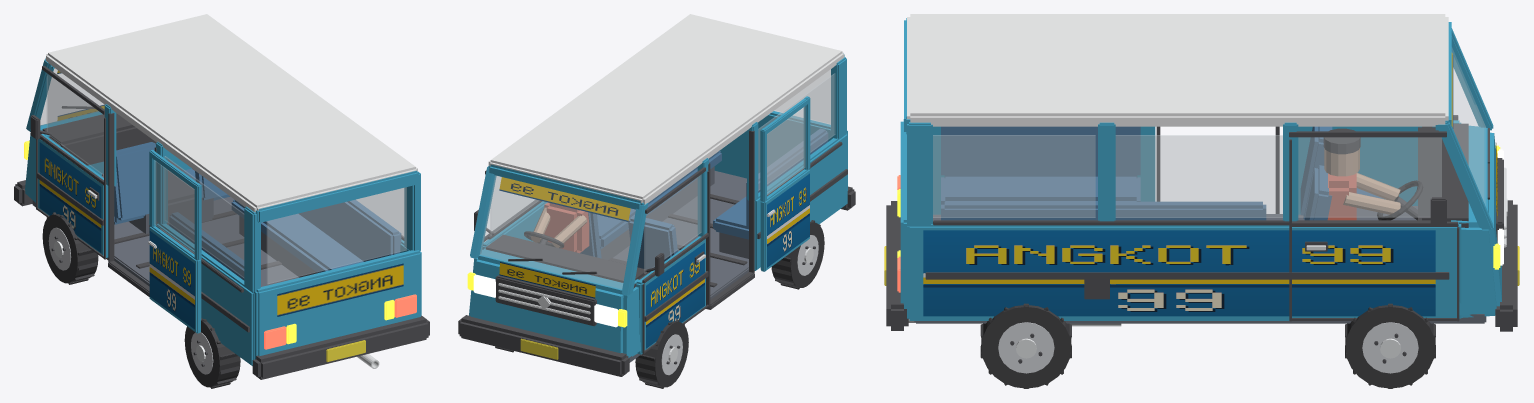
The model's file is angkot.glb.
The picture shows the model from 3 angles, left to right: view 1: azimuth 30°, elevation 25°; view 2: azimuth 150°, elevation 25°; view 3: azimuth 270°, elevation 25°; orthographic projection. The views are drawn at different scales.
Visible parts, largest first — view 1: Carry_Roof, Carry_RearGlass, Carry_RearLower, Glass_L_Rear, SideL_RearPanel, Carry_BumperR, Decal_LeftFrontDoor99, Bench_R_Back, Carry_Floor, Glass_L_Front, Bench_R_Seat, Decal_LeftOpenDoor99 (+37 smaller); view 2: Carry_Roof, Carry_Windshield, Carry_FrontNose, Glass_L_Rear, Carry_BumperF, Carry_Floor, Glass_L_Front, SideL_RearPanel, Decal_LeftFrontDoor99, Carry_RearLower, Decal_LeftOpenDoor99, Carry_Dash (+41 smaller); view 3: Carry_Roof, Decal_Right99, Glass_R_Mid, Glass_R_Rear, Glass_R_Front, Bench_L_Back, SideR_Lower, Bench_R_Back, Carry_FrontNose, Bench_L_Seat, SideMolding_R, SideL_FrontDoor (+28 smaller).
Boxes of the visible parts, bbox=[...] form: Carry_Roof: bbox=[46, 14, 417, 212]; Carry_RearGlass: bbox=[267, 187, 406, 283]; Carry_RearLower: bbox=[254, 250, 421, 359]; Glass_L_Rear: bbox=[164, 156, 243, 277]; SideL_RearPanel: bbox=[156, 223, 254, 365]; Carry_BumperR: bbox=[252, 315, 429, 379]; Decal_LeftFrontDoor99: bbox=[39, 142, 101, 252]; Bench_R_Back: bbox=[299, 199, 401, 261]; Carry_Floor: bbox=[32, 196, 298, 286]; Glass_L_Front: bbox=[47, 74, 104, 175]; Bench_R_Seat: bbox=[231, 200, 363, 272]; Decal_LeftOpenDoor99: bbox=[149, 231, 194, 329]; Carry_Roof: bbox=[488, 14, 844, 204]; Carry_Windshield: bbox=[480, 175, 635, 289]; Carry_FrontNose: bbox=[469, 243, 641, 357]; Glass_L_Rear: bbox=[758, 73, 835, 190]; Carry_BumperF: bbox=[458, 315, 629, 376]; Carry_Floor: bbox=[613, 171, 748, 362]; Glass_L_Front: bbox=[644, 175, 701, 273]; SideL_RearPanel: bbox=[754, 133, 847, 270]; Decal_LeftFrontDoor99: bbox=[646, 243, 704, 348]; Carry_RearLower: bbox=[714, 111, 847, 190]; Decal_LeftOpenDoor99: bbox=[767, 173, 809, 267]; Carry_Dash: bbox=[485, 234, 649, 288]; Carry_Roof: bbox=[907, 14, 1448, 126]; Decal_Right99: bbox=[923, 230, 1435, 316]; Glass_R_Mid: bbox=[1116, 135, 1282, 217]; Glass_R_Rear: bbox=[933, 135, 1095, 217]; Glass_R_Front: bbox=[1298, 137, 1441, 217]; Bench_L_Back: bbox=[941, 126, 1140, 177]; SideR_Lower: bbox=[907, 222, 1461, 320]; Bench_R_Back: bbox=[941, 201, 1266, 220]; Carry_FrontNose: bbox=[1451, 125, 1501, 317]; Bench_L_Seat: bbox=[941, 176, 1140, 204]; SideMolding_R: bbox=[925, 272, 1449, 279]; SideL_FrontDoor: bbox=[1298, 120, 1460, 214].
Size of the model in its own units: 1.78 by 1.85 by 3.95.
18 materials, 2 textured.
